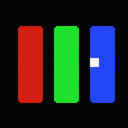1 square: (90, 58, 98, 66)
